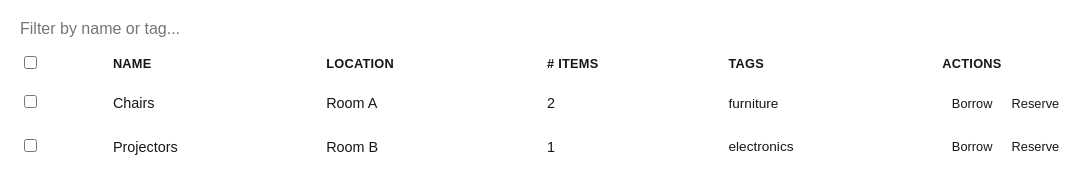
Scenario: filters by tag
Type "electronics" into the field named "Filter resources" at {"x": 172, "y": 29}, box [12,12,332,46]
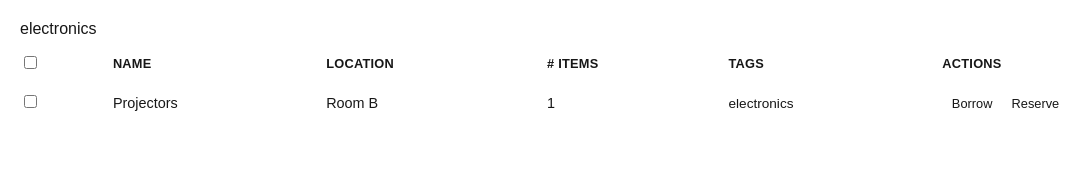
Check: the link "Projectors" is shown, box [113,95,178,111]
Check: the link "Chairs" is gone
